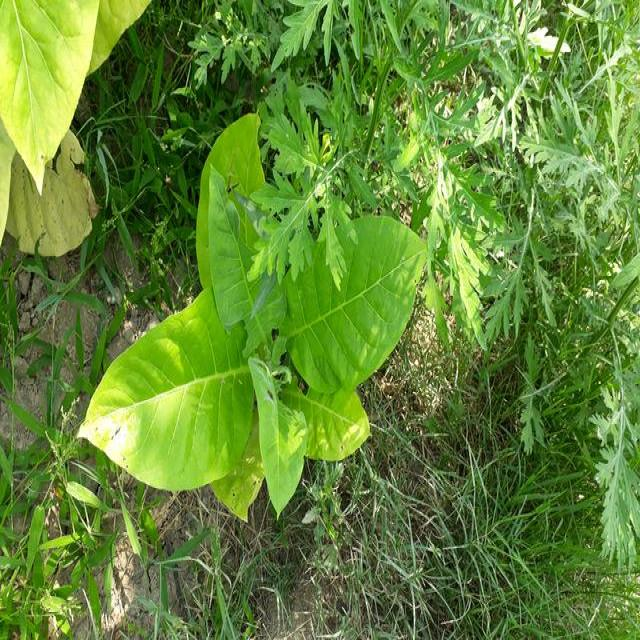crop: (72, 120, 432, 520)
